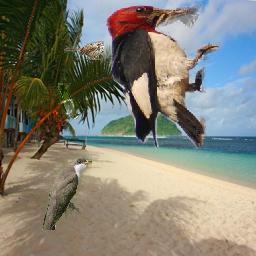Cuckoo: (42, 156, 93, 230), (59, 83, 80, 119)
Sparrow: (64, 42, 104, 61)
Woodpecker: (107, 5, 220, 150)
